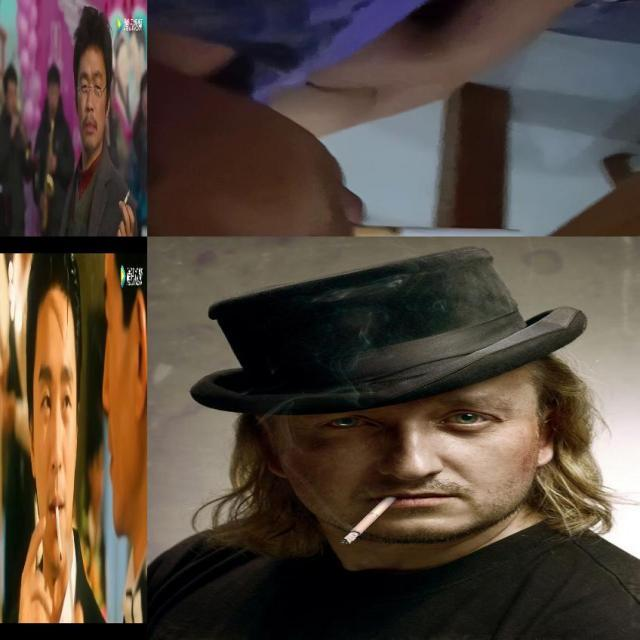smoke: (340, 496, 398, 546), (352, 226, 524, 236), (55, 506, 62, 562), (123, 190, 131, 206)
